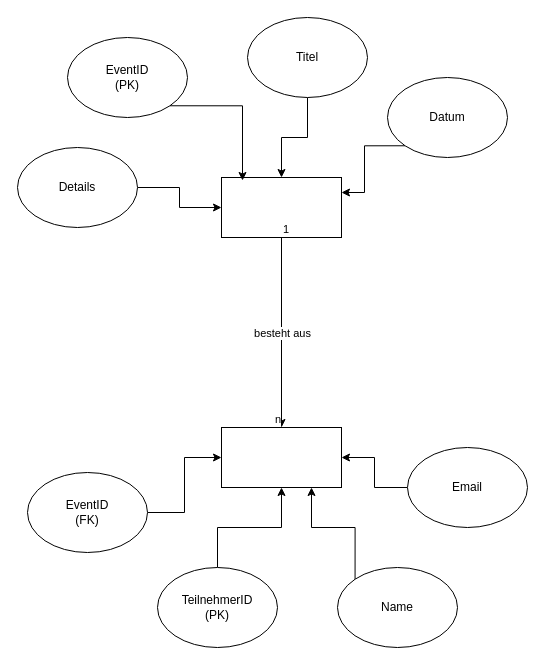
This 545x665 diagram has some shape labels left out. The centre of each missing label's shape, as x and y in pixels:
Events: the point at 281,207
Teilnehmer: the point at 281,457
